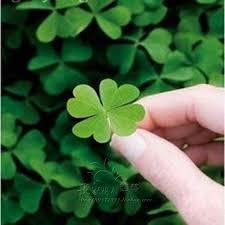4-clover: (67, 77, 146, 145)
